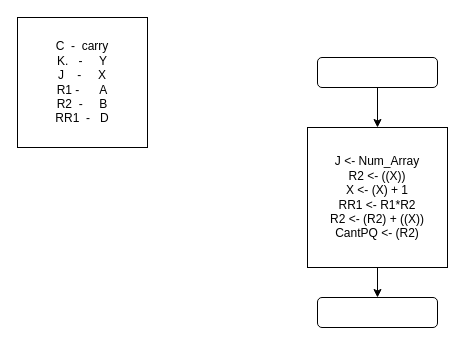
Image size: 465x345. Some labels were removed from this diagram. The centre of each missing label's shape, as x and y in pixels:
BCD_BIN: the point at 377,72
RETURN: the point at 377,312
